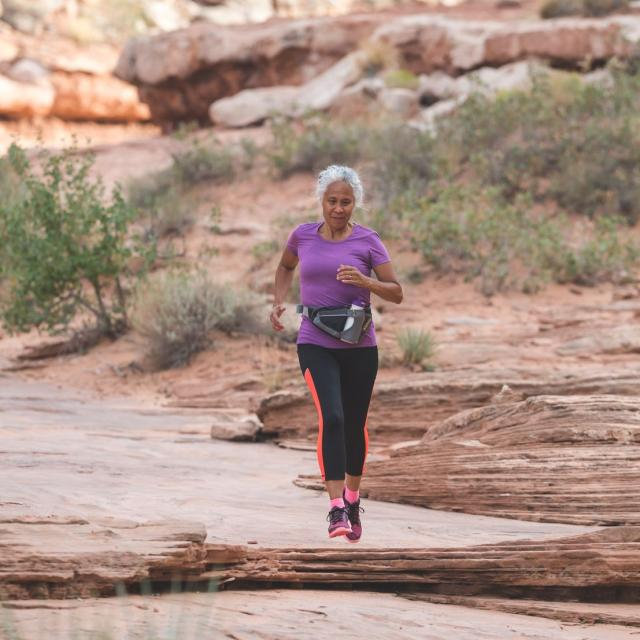Person: (272, 167, 404, 544)
